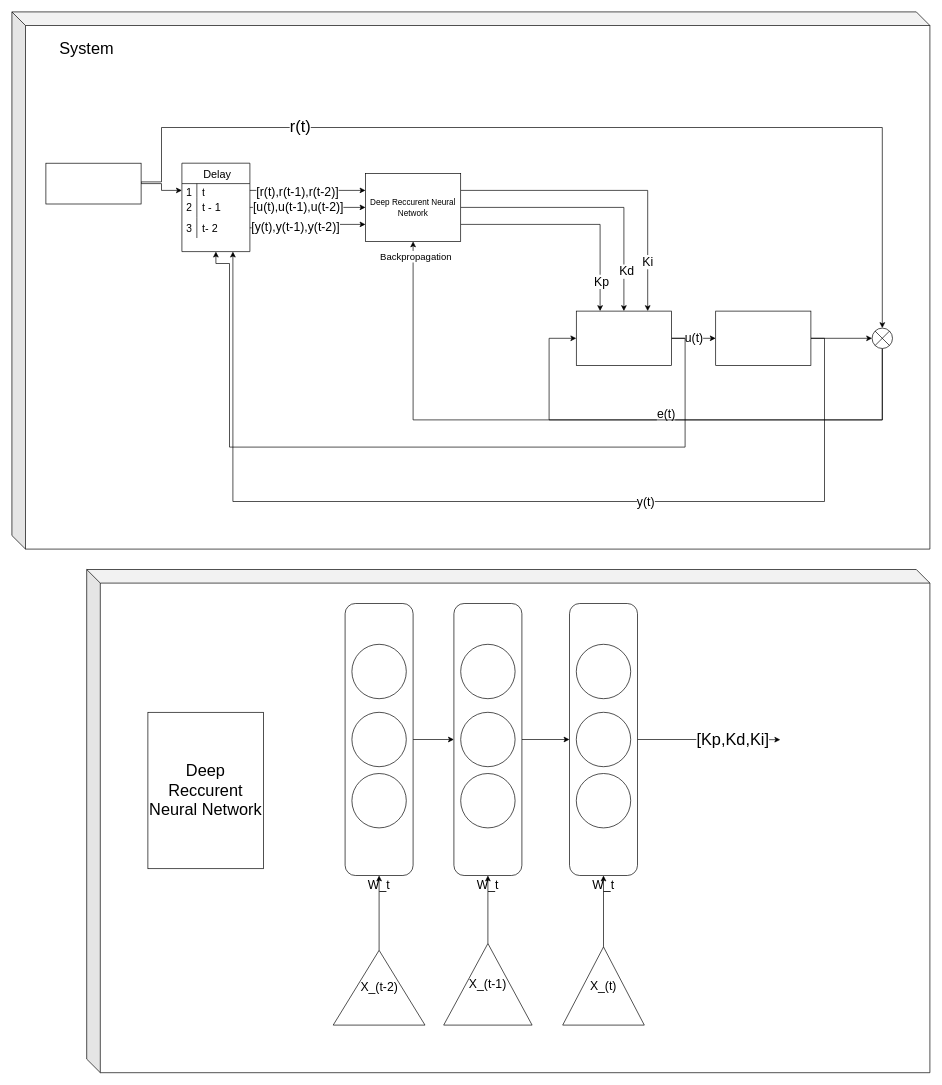
Some shapes in this 942 by 1085 pixel diagram are drawn without their labels. The shapes that lost their labels are listed below. From the top down, each one's centre as x and y in pixels, then its label:
point (93, 183): Reference
point (624, 338): PID CNTRL
point (763, 338): Plant
